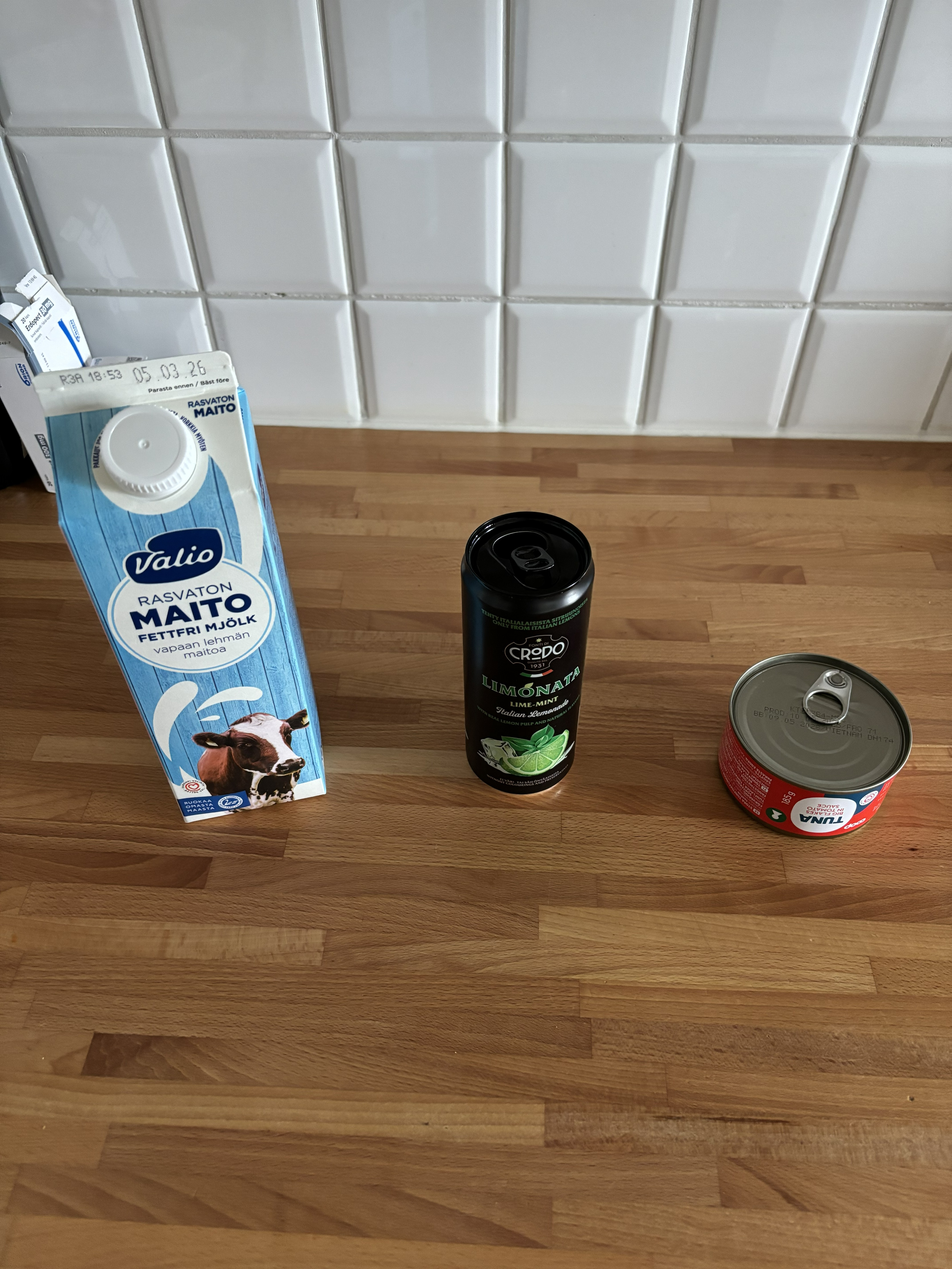Dryckeskartong: (26, 353, 333, 826)
Konservburk: (714, 647, 920, 842)
Pantburk: (455, 510, 597, 798)
